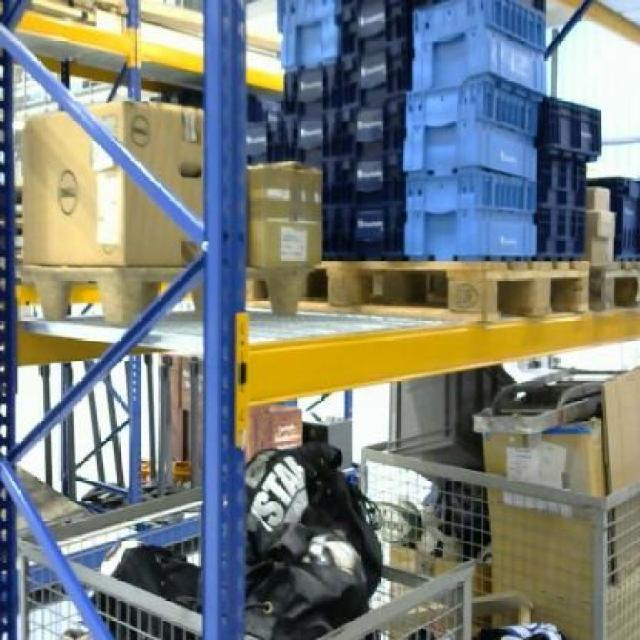box: (22, 97, 202, 266), (482, 433, 598, 616), (245, 164, 322, 270)
